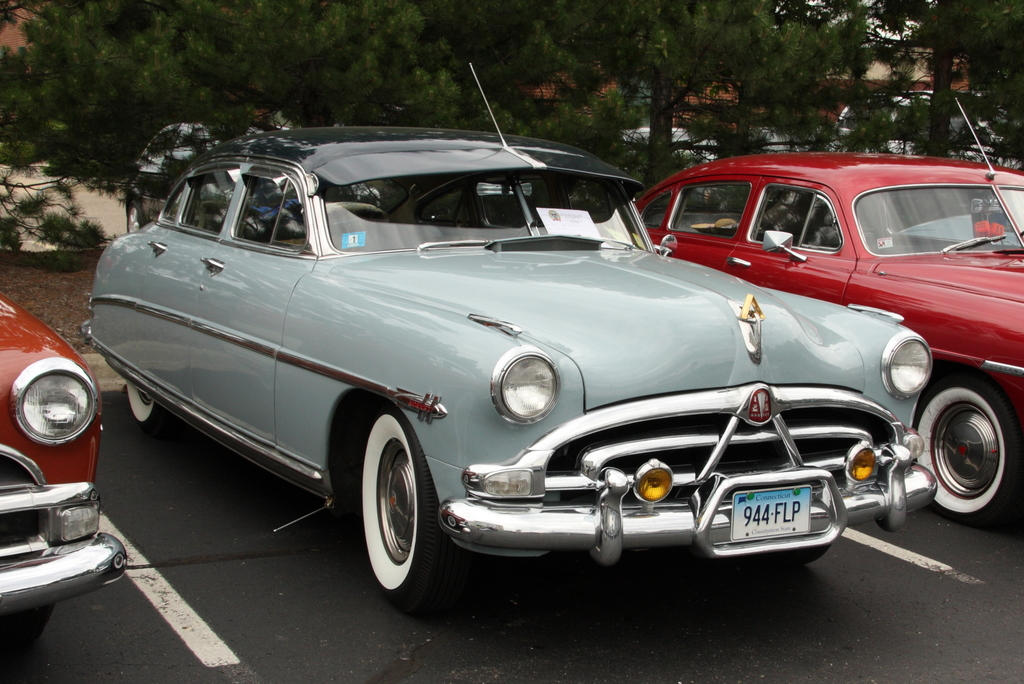mobil: (85, 136, 945, 612)
